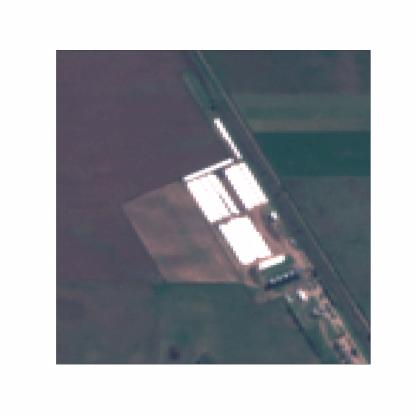silobolsa: (208, 174, 241, 214), (186, 180, 216, 223), (201, 176, 232, 217), (240, 214, 271, 254), (219, 222, 248, 264), (226, 220, 256, 260), (226, 170, 255, 209), (195, 180, 224, 219), (183, 159, 234, 181), (233, 164, 260, 204), (239, 161, 266, 200), (233, 217, 260, 256), (216, 118, 242, 158), (258, 254, 285, 269)
